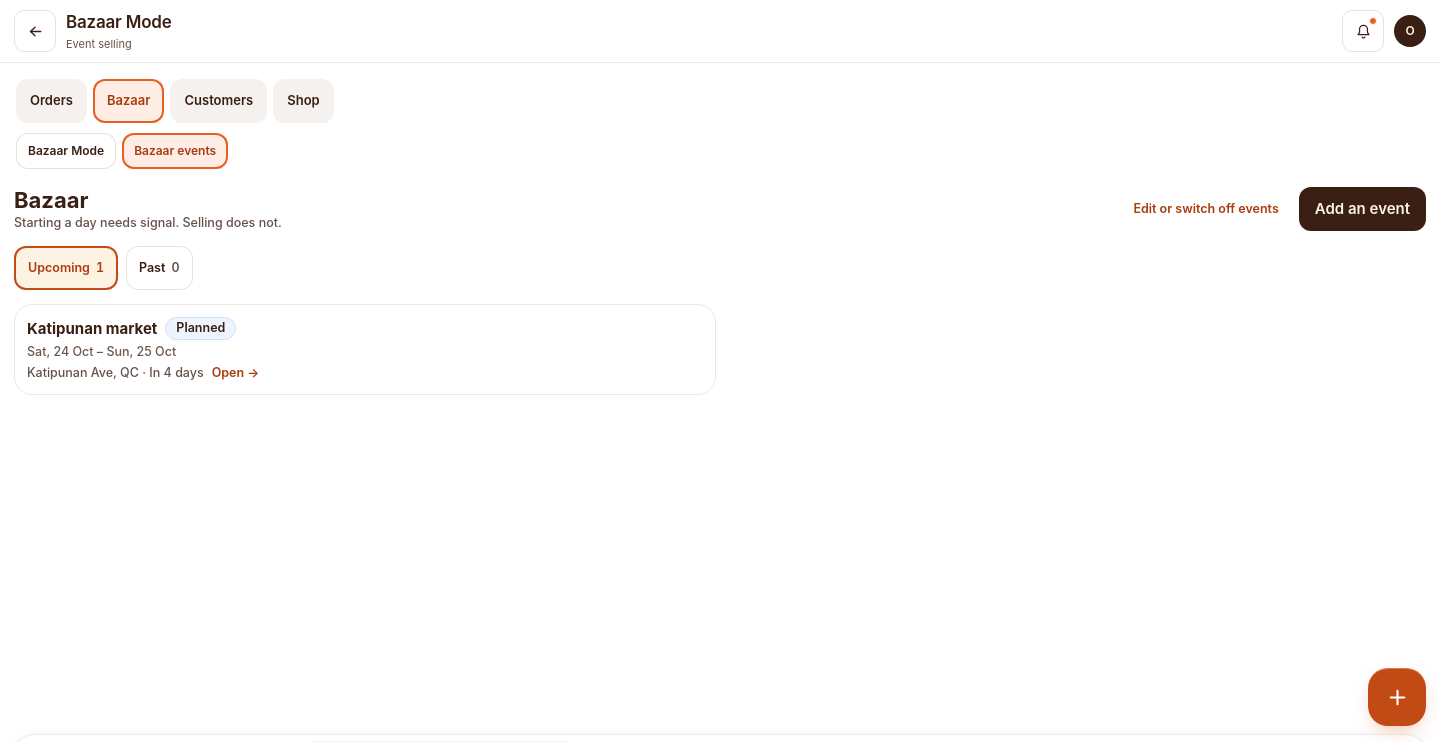
it: S2: with no event on the phone › a day with no cookies planned cannot be started
Click the button "Katipunan market": (92, 328) [14,304,716,395]
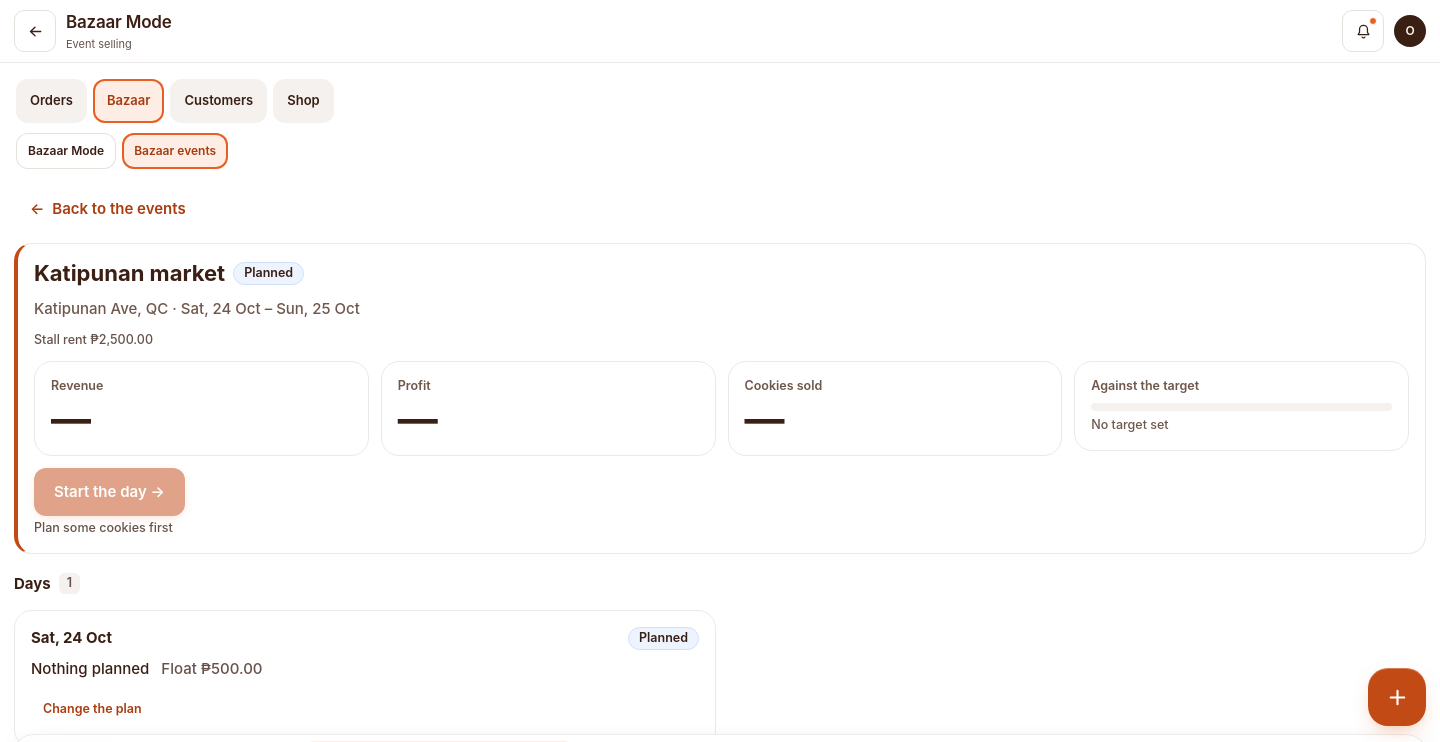
Result: the button "Start the day →" is disabled at [34,468,185,516]
Result: the text "Plan some cookies first" is shown at [34,520,173,535]
